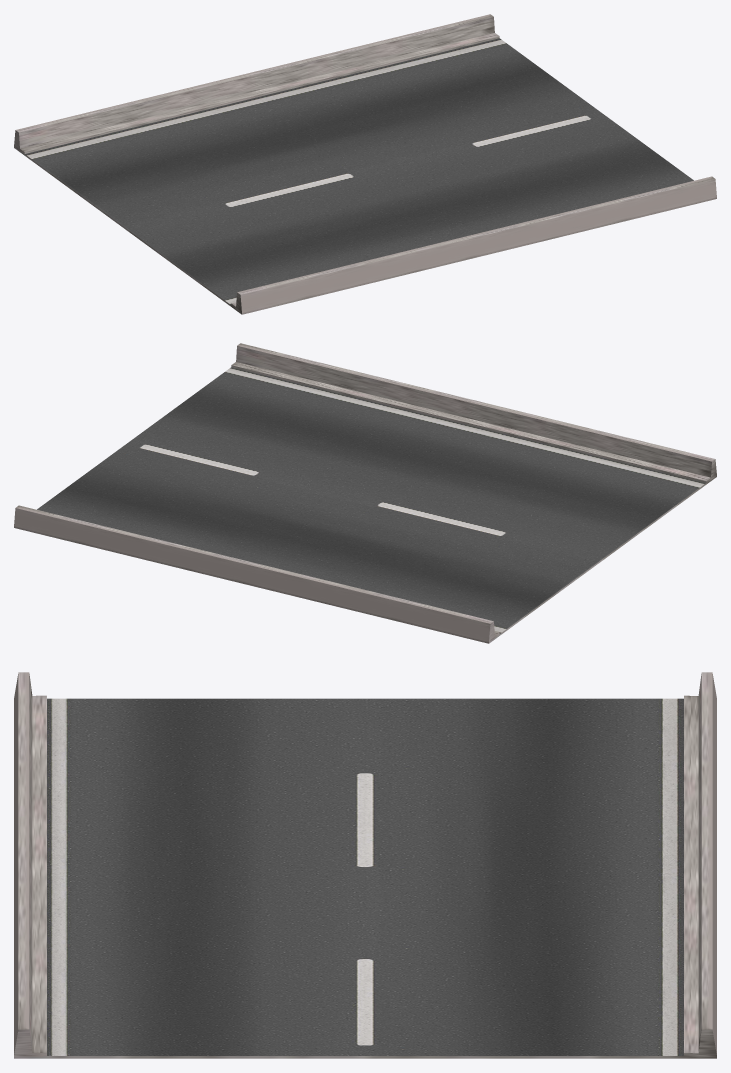
File: Road.FBX
3 renders of one model, top to bottom at view 1: azimuth 30°, elevation 25°; view 2: azimuth 150°, elevation 25°; view 3: azimuth 270°, elevation 25°, orthographic. The views are drawn at different scales.
Parts seen in each view (by area): view 1: Box001; view 2: Box001; view 3: Box001.
Part boxes in pixels (x1,y1,x2,y2): Box001: [14, 14, 716, 314]; Box001: [14, 343, 716, 643]; Box001: [14, 672, 716, 1058].
Size of the model in its own units: 72.76 by 2.77 by 60.5.
